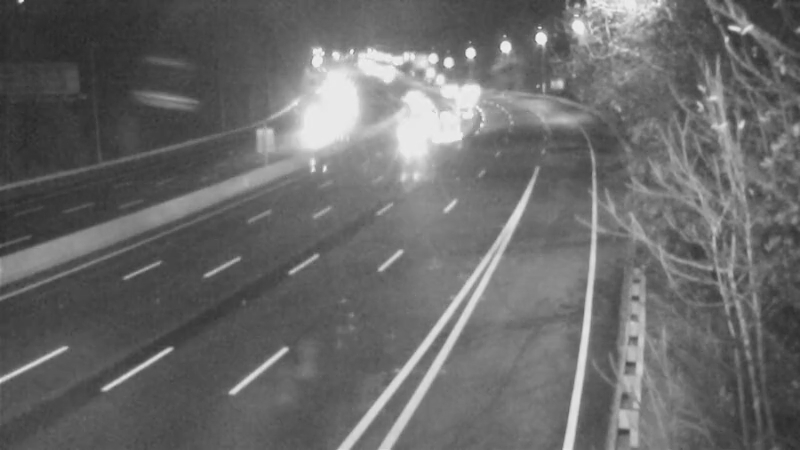vehicle: (425, 66, 475, 116), (450, 64, 500, 114), (386, 71, 436, 121), (437, 75, 487, 125), (390, 82, 440, 132), (434, 89, 484, 139), (412, 108, 462, 158), (384, 102, 434, 152)
